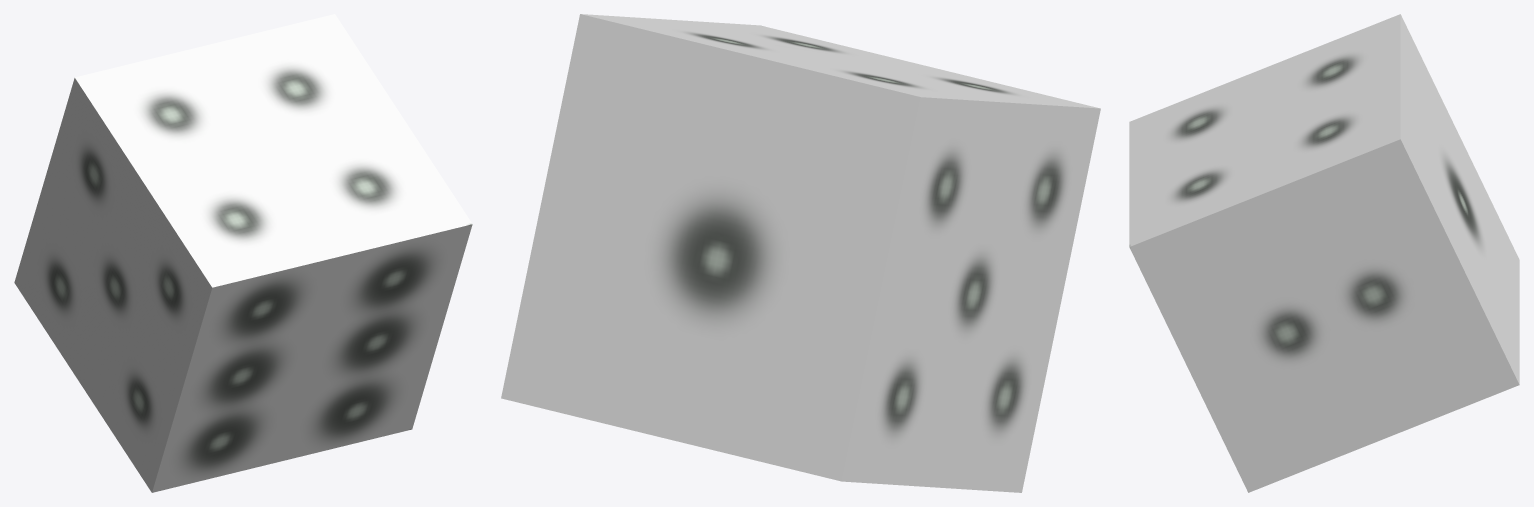
The model's file is texture01dim256px.glb.
The picture shows the model from 3 angles, left to right: view 1: azimuth 30°, elevation 25°; view 2: azimuth 150°, elevation 25°; view 3: azimuth 270°, elevation 25°; orthographic projection. The views are drawn at different scales.
Visible parts, largest first — view 1: Cube; view 2: Cube; view 3: Cube.
Boxes of the visible parts, <box> form: Cube: <box>14,14,472,492</box>; Cube: <box>501,14,1100,492</box>; Cube: <box>1129,14,1519,492</box>.
Bounding box in the file's own units: 0.4671 × 0.6154 × 0.6154.
1 material, 1 textured.
